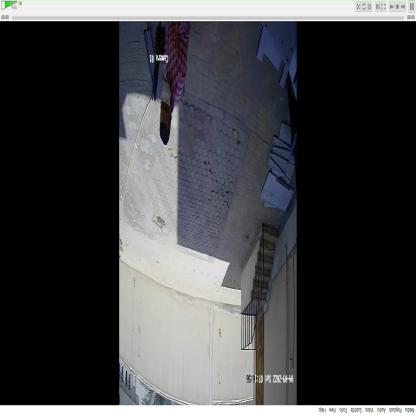handgun: (144, 21, 170, 106)
